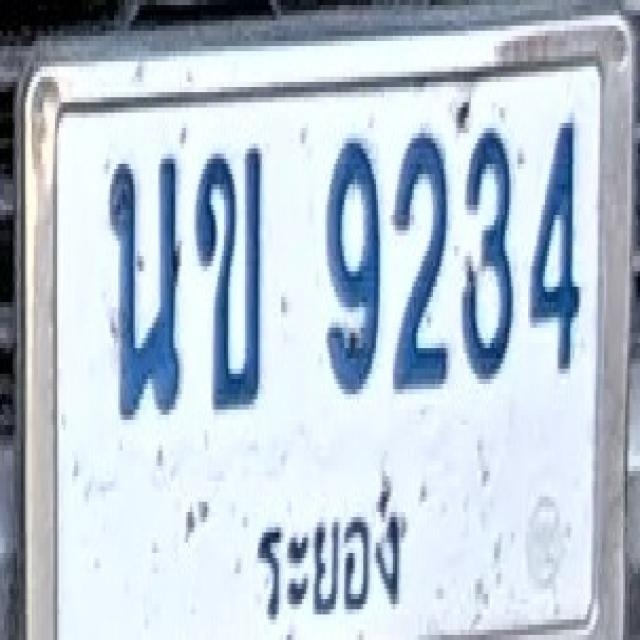-: (108, 151, 182, 417), (193, 143, 263, 410)
2: (392, 128, 449, 389)
3: (461, 123, 514, 379)
4: (528, 115, 581, 371)
9: (325, 136, 380, 392)
RYG: (235, 454, 415, 636)
